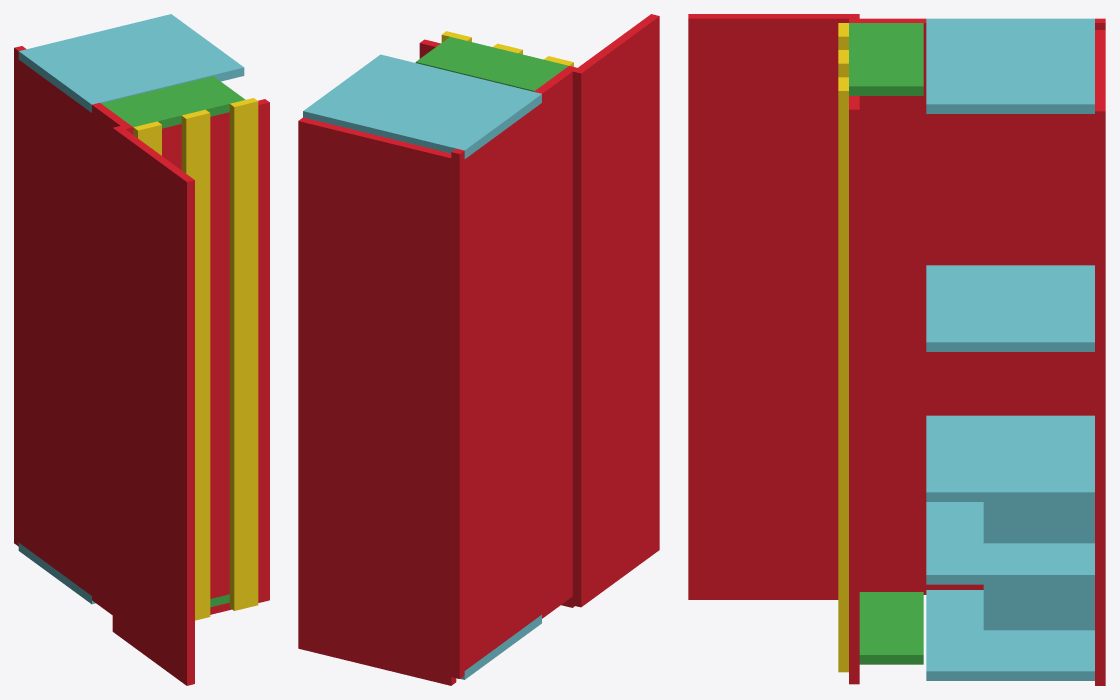
The model's file is tinker.obj.
The picture shows the model from 3 angles, left to right: view 1: azimuth 30°, elevation 25°; view 2: azimuth 150°, elevation 25°; view 3: azimuth 270°, elevation 25°; orthographic projection. The views are drawn at different scales.
Visible parts, largest first — view 1: group_0_15277357, group_0_16768282, group_0_7720667, group_0_4634441; view 2: group_0_15277357, group_0_7720667, group_0_4634441; view 3: group_0_15277357, group_0_7720667, group_0_4634441, group_0_16768282.
Part boxes in pixels (left/top/right/bottom): group_0_15277357: left=14, top=46, right=269, bottom=685; group_0_16768282: left=133, top=98, right=258, bottom=620; group_0_7720667: left=18, top=14, right=244, bottom=604; group_0_4634441: left=101, top=76, right=245, bottom=607; group_0_15277357: left=298, top=14, right=659, bottom=685; group_0_7720667: left=303, top=54, right=541, bottom=679; group_0_4634441: left=415, top=37, right=568, bottom=91; group_0_15277357: left=688, top=14, right=1105, bottom=685; group_0_7720667: left=926, top=18, right=1094, bottom=680; group_0_4634441: left=849, top=23, right=923, bottom=664; group_0_16768282: left=838, top=23, right=848, bottom=672.
Size of the model in its own units: 20 by 60.29 by 39.
